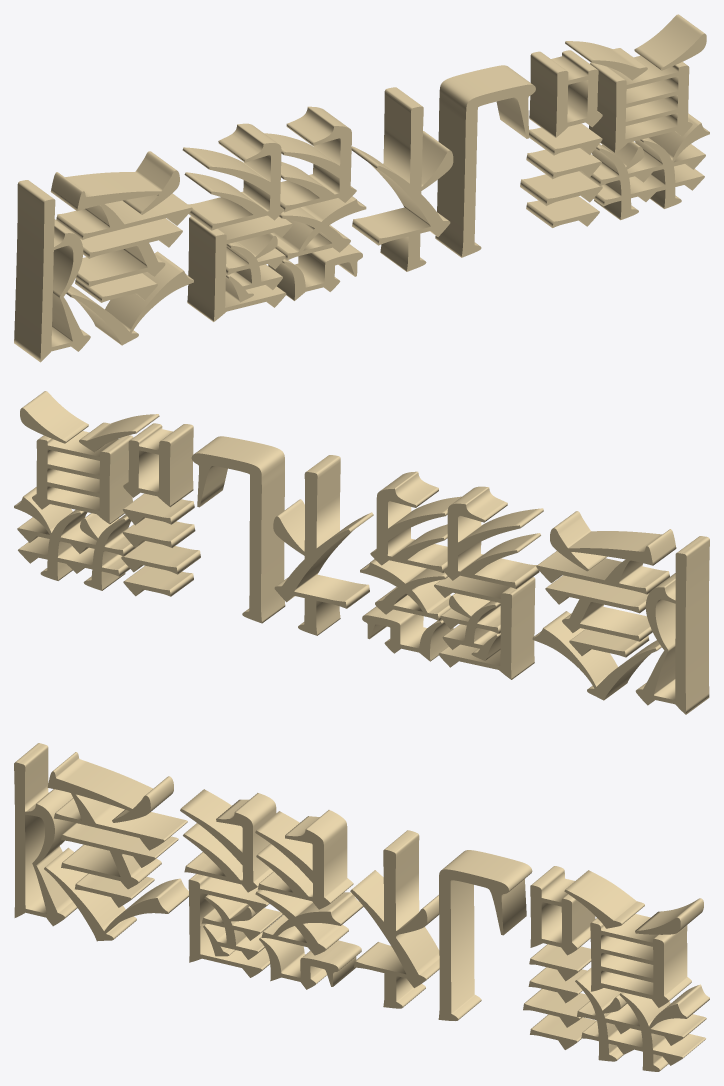
Rendered from shadows_final.glb.
3 renders of one model, top to bottom at view 1: azimuth 30°, elevation 25°; view 2: azimuth 150°, elevation 25°; view 3: azimuth 330°, elevation 25°, orthographic. The views are drawn at different scales.
Parts seen in each view (by area): view 1: Text; view 2: Text; view 3: Text.
Boxes of the visible parts, x1,y1,x2,y2 form: Text: (14,14,709,362); Text: (14,391,709,714); Text: (14,743,709,1071).
Size of the model in its own units: 3.12 by 0.7595 by 0.3068.
